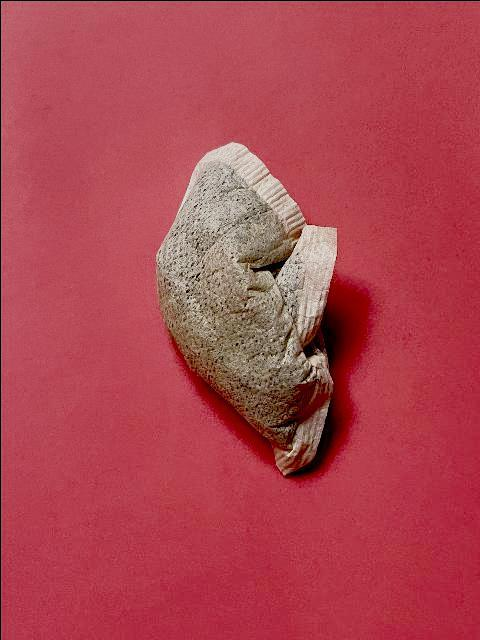teabag: (153, 140, 338, 480)
